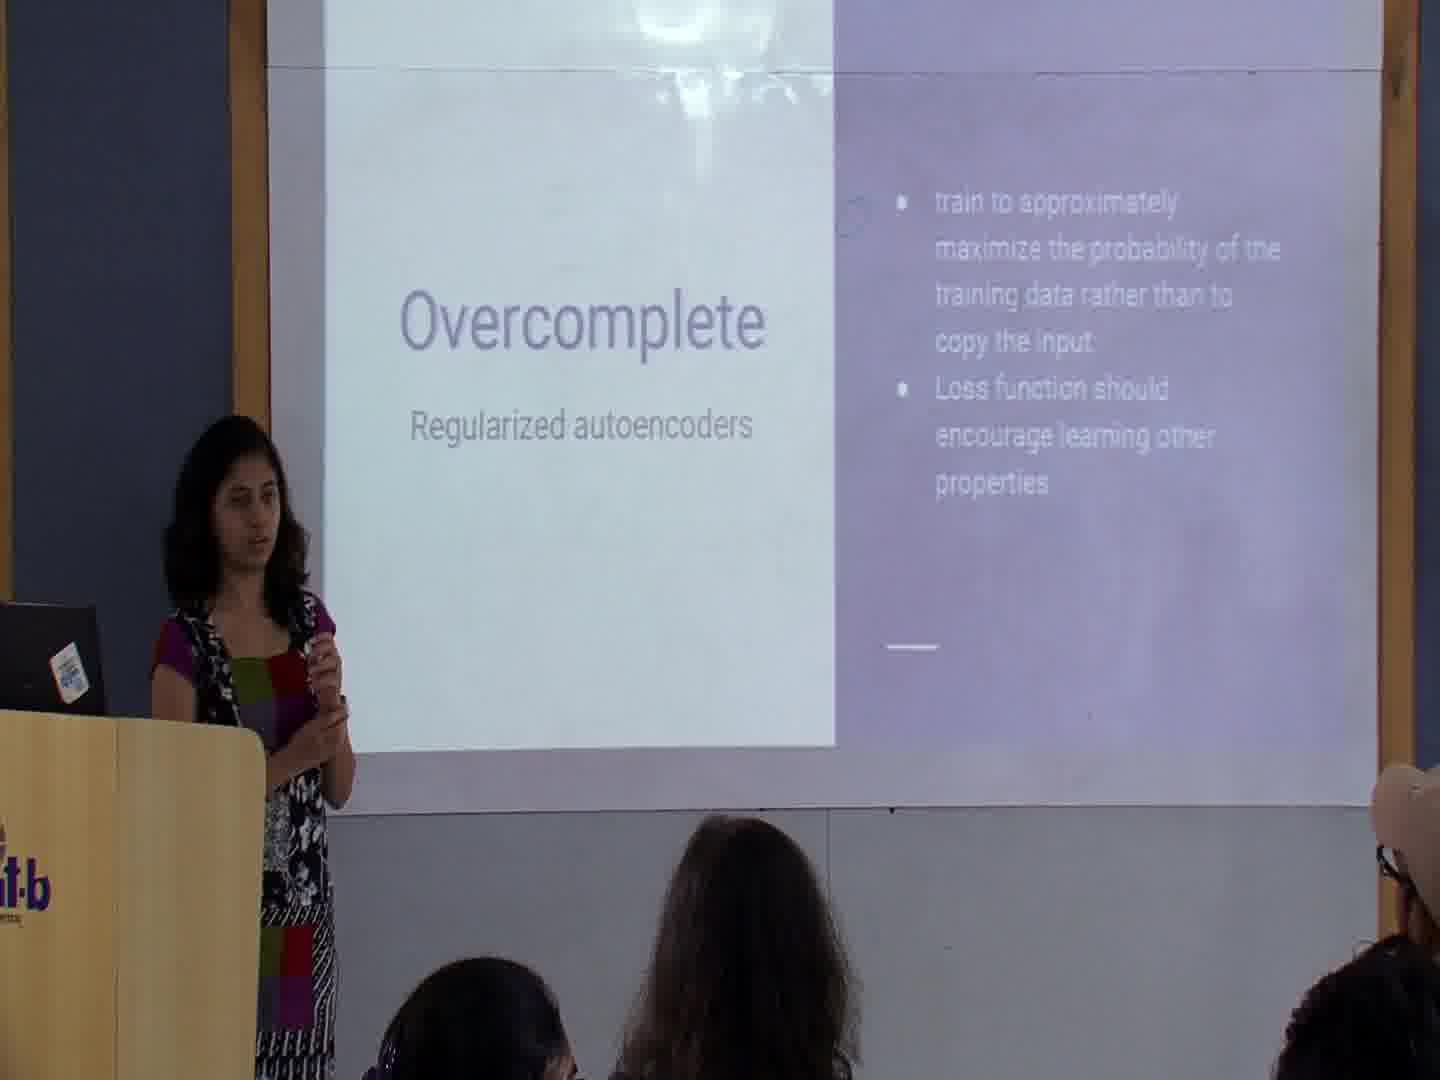slide: (323, 3, 1345, 748)
